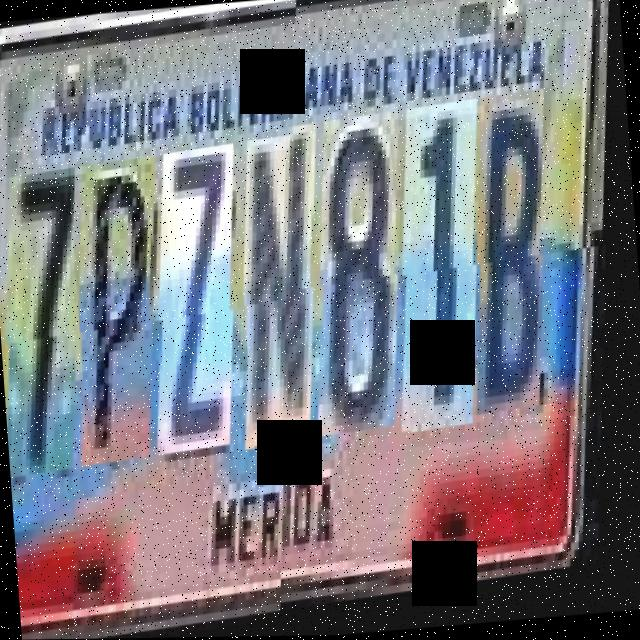1: (388, 113, 508, 448)
7: (0, 167, 104, 478)
8: (307, 124, 427, 451)
B: (464, 105, 572, 430)
N: (233, 134, 345, 454)
P: (68, 156, 183, 468)
Z: (146, 146, 262, 457)
